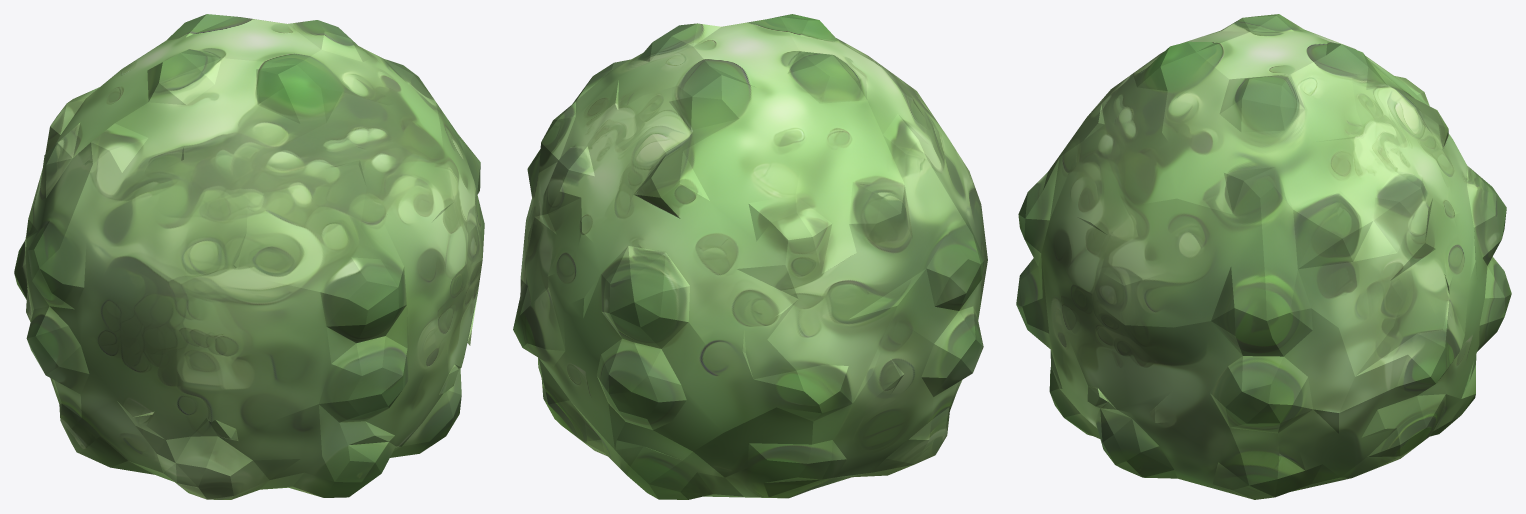
Rendered from base_basic_pbr.fbx.
3 views of the same model, side by side, from view 1: azimuth 30°, elevation 25°; view 2: azimuth 150°, elevation 25°; view 3: azimuth 270°, elevation 25° (orthographic). The views are drawn at different scales.
Parts seen in each view (by area): view 1: model; view 2: model; view 3: model.
Boxes of the visible parts, bbox=[...] form: model: bbox=[14, 14, 484, 499]; model: bbox=[513, 14, 987, 499]; model: bbox=[1016, 14, 1511, 499].
Bounding box in the file's own units: 187 × 163 × 186.
Materials: 1 (1 with a texture image).
